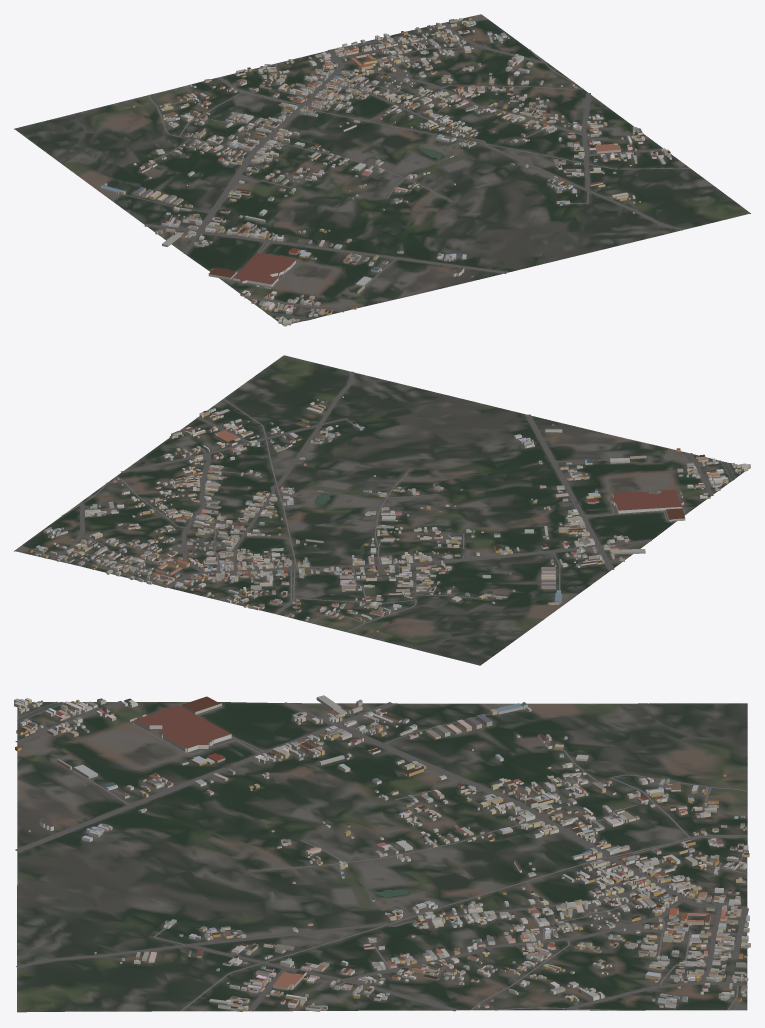
3 views of the same model, one above another, from view 1: azimuth 30°, elevation 25°; view 2: azimuth 150°, elevation 25°; view 3: azimuth 270°, elevation 25° (orthographic). The views are drawn at different scales.
Parts seen in each view (by area): view 1: ground, buildings, roads; view 2: ground, buildings, roads; view 3: ground, buildings, roads.
Boxes of the visible parts, left/top/right/bottom form: ground: left=14, top=14, right=750, bottom=324; buildings: left=100, top=16, right=671, bottom=326; roads: left=125, top=19, right=690, bottom=320; ground: left=14, top=355, right=750, bottom=665; buildings: left=28, top=396, right=750, bottom=632; roads: left=21, top=371, right=735, bottom=631; ground: left=17, top=702, right=747, bottom=1012; buildings: left=14, top=695, right=750, bottom=1011; roads: left=15, top=701, right=748, bottom=1011.
Size of the model in its own units: 1430 by 20.47 by 1413.
